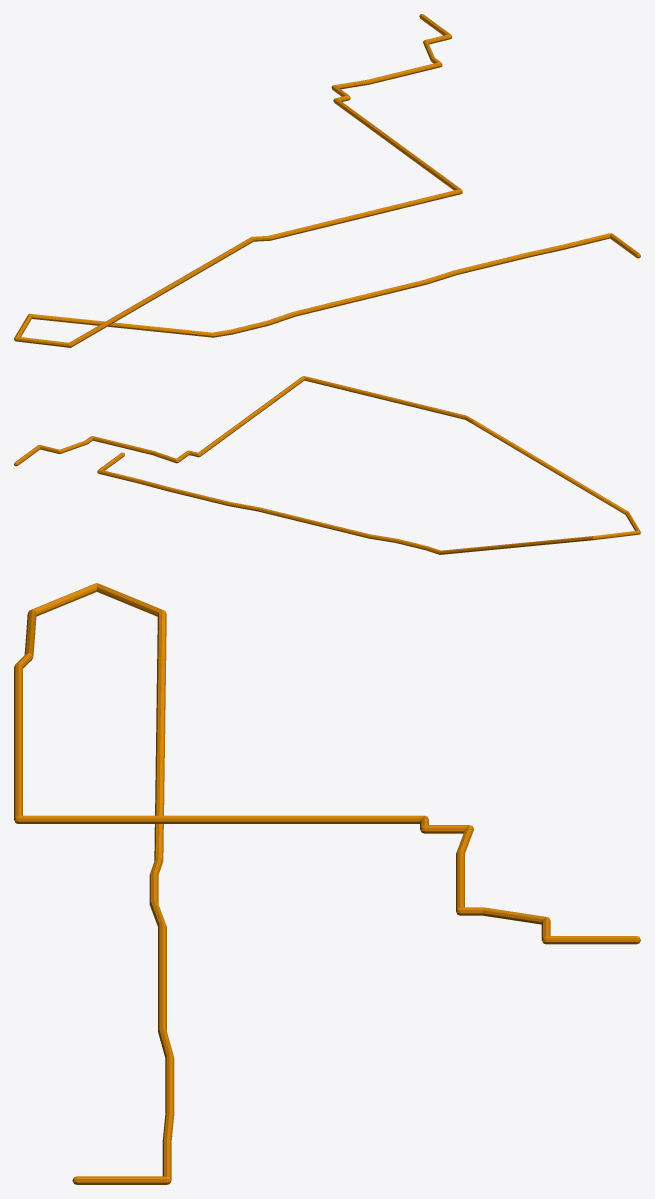
3 renders of one model, top to bottom at view 1: azimuth 30°, elevation 25°; view 2: azimuth 150°, elevation 25°; view 3: azimuth 270°, elevation 25°, orthographic. The views are drawn at different scales.
Bounding box in the file's own units: 2595 × 520 × 1390.
